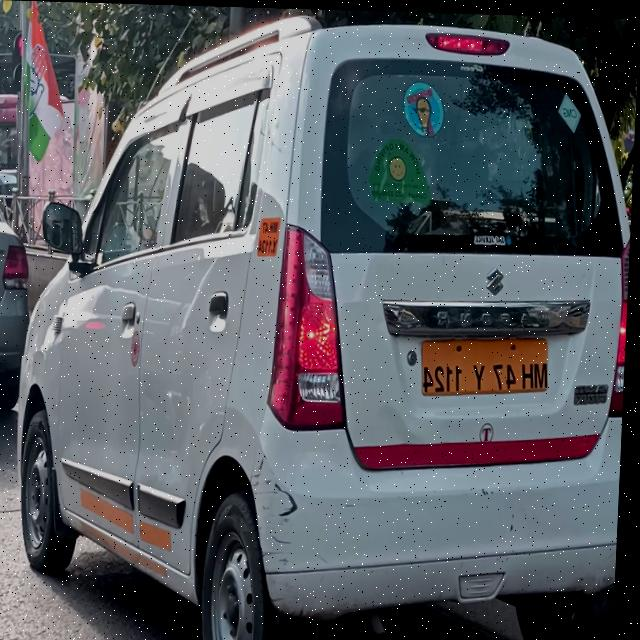plate: (423, 330, 555, 396), (256, 212, 285, 261)
